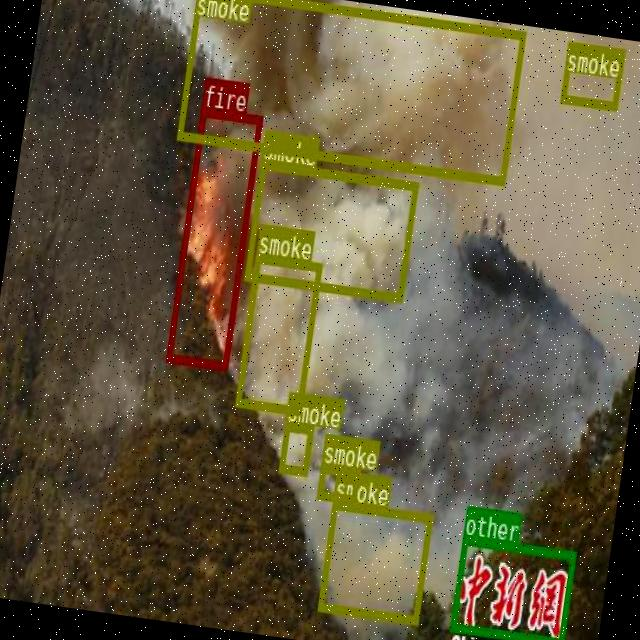fire: (166, 106, 262, 369)
smoke: (176, 0, 525, 183), (245, 160, 418, 302), (318, 499, 432, 623), (235, 252, 322, 413), (560, 40, 625, 110), (278, 420, 314, 474), (316, 462, 359, 502)
